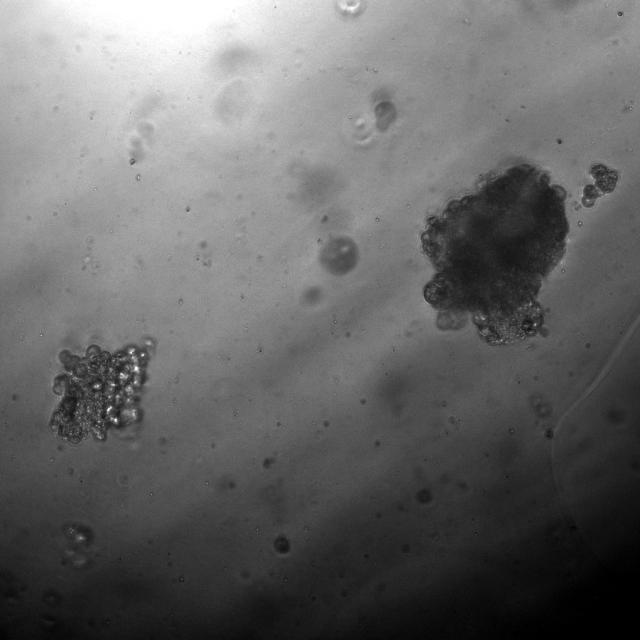organoid: (421, 163, 568, 345), (49, 341, 152, 445), (582, 163, 619, 207), (318, 235, 358, 274), (375, 100, 396, 130)
